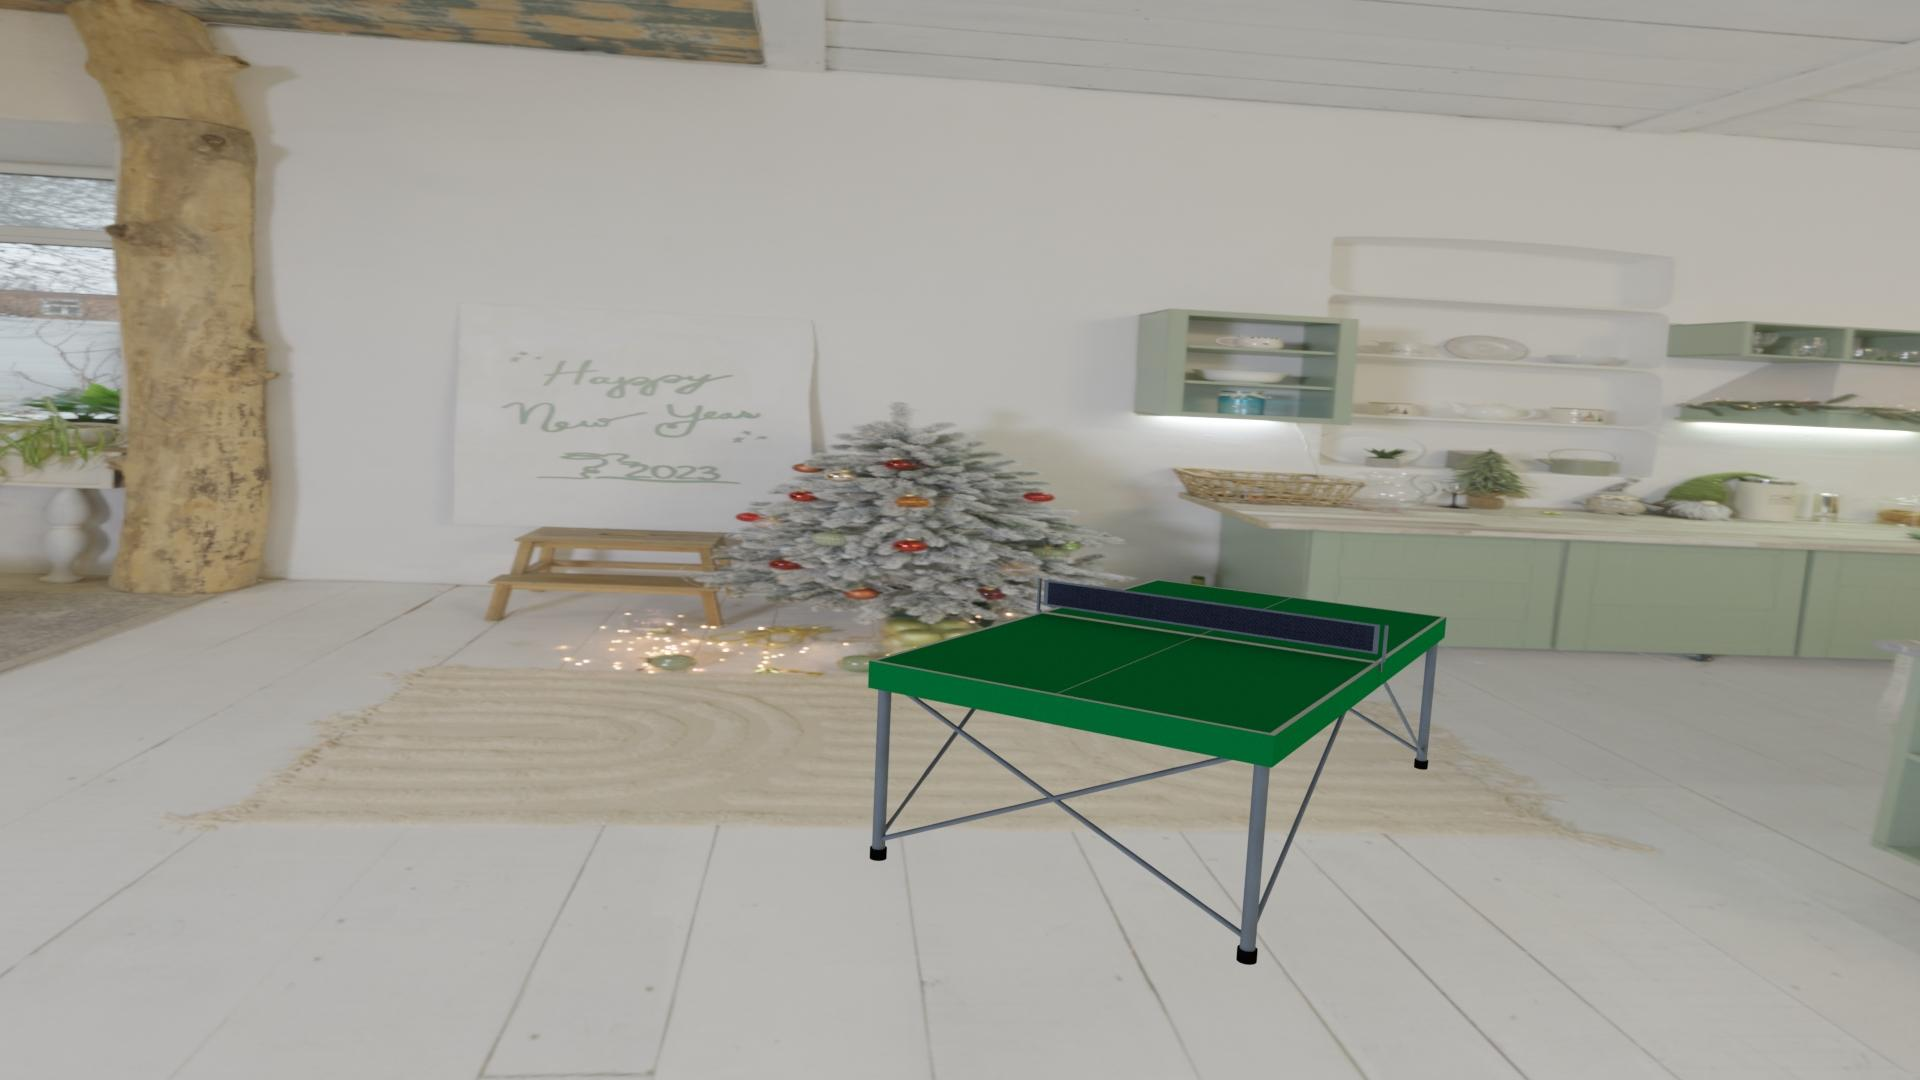table: (877, 580, 1442, 733)
